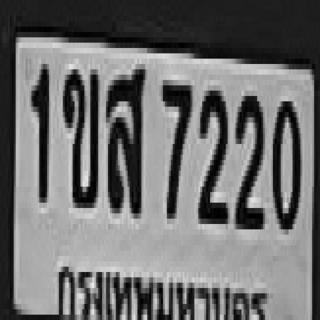A02: (61, 64, 96, 203)
A40: (104, 64, 143, 213)
N00: (271, 96, 298, 224)
N01: (29, 59, 47, 197)
N02: (196, 85, 226, 219), (233, 91, 263, 224)
N07: (161, 75, 190, 213)
P04: (57, 256, 268, 320)
